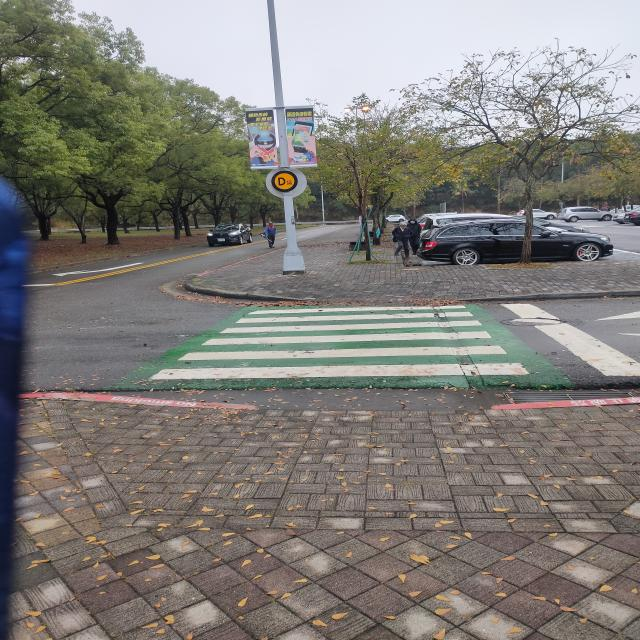zebra_crossing: (187, 115, 325, 502)
